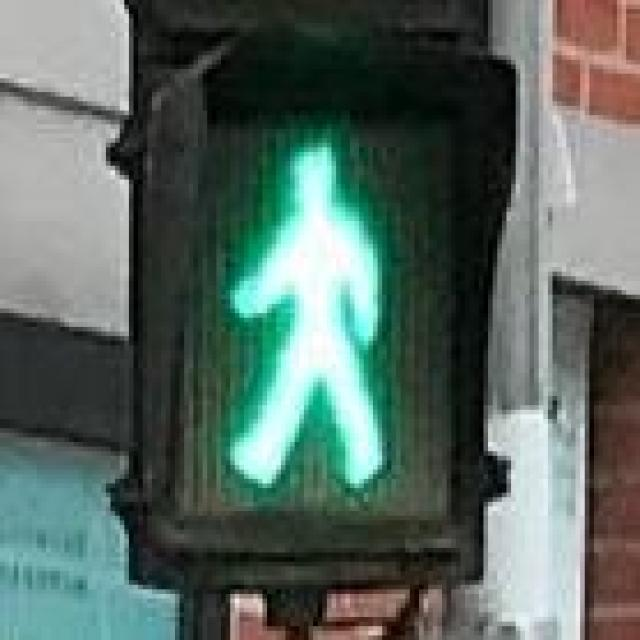geen-crossing: (166, 102, 460, 530)
